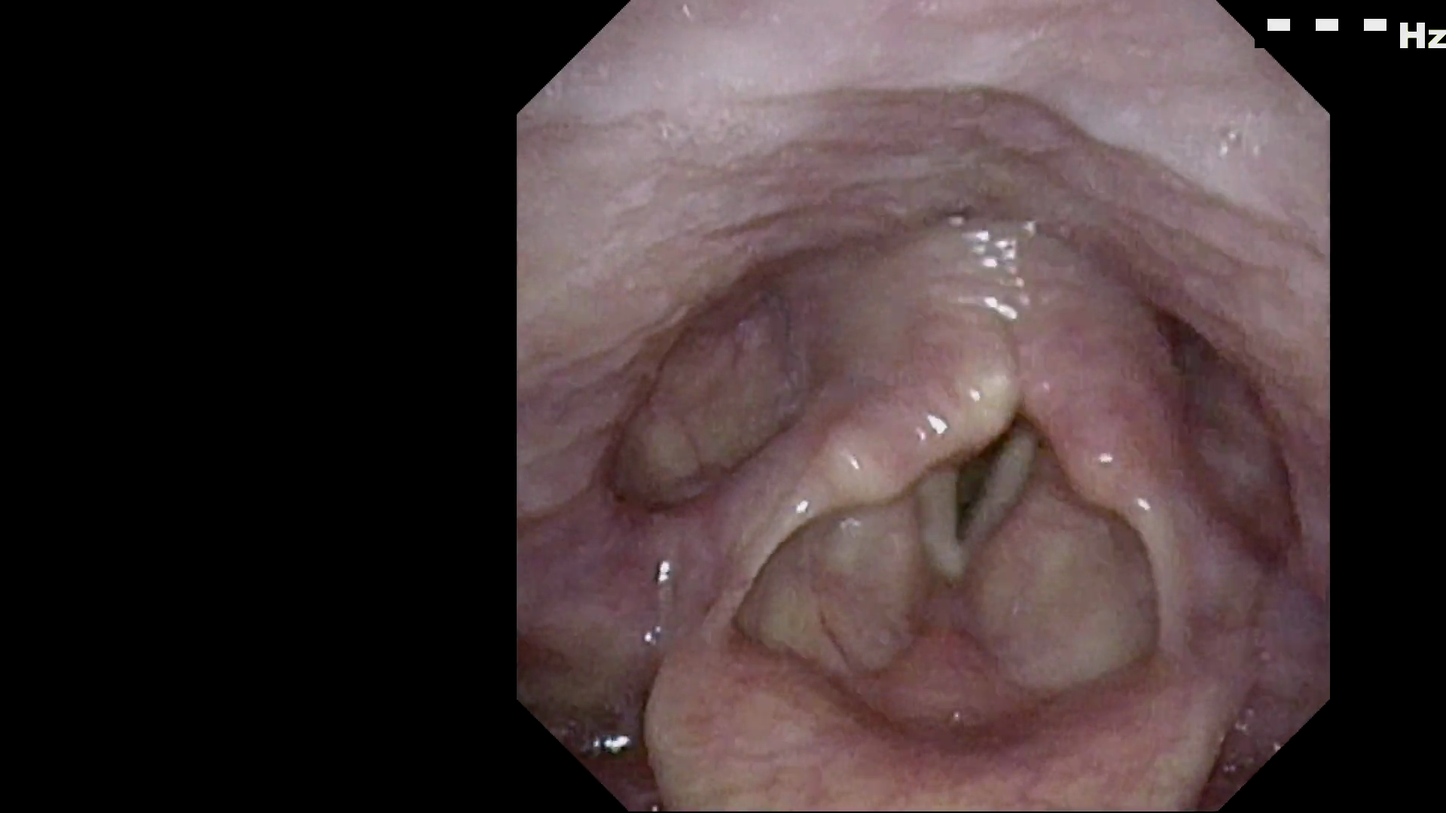epiglottis: (638, 606, 1246, 767)
trachea: (886, 400, 1052, 572)
